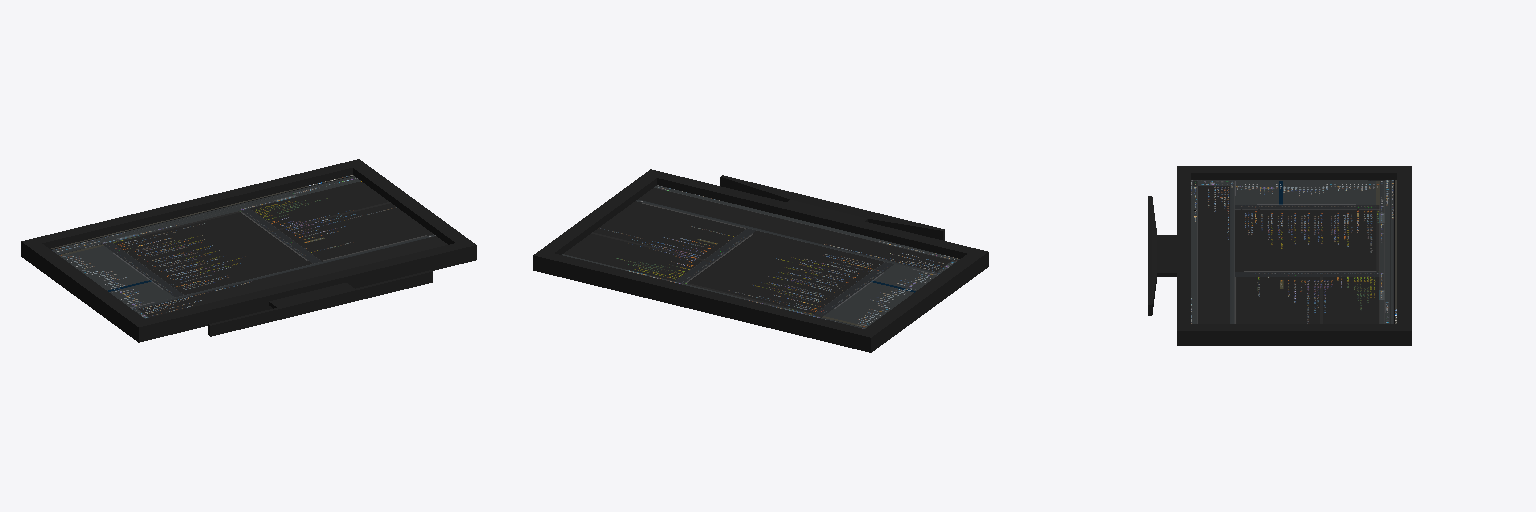
3 views of the same model, side by side, from view 1: azimuth 30°, elevation 25°; view 2: azimuth 150°, elevation 25°; view 3: azimuth 270°, elevation 25° (orthographic).
Parts seen in each view (by area): view 1: Cube; view 2: Cube; view 3: Cube.
Boxes of the visible parts, <box> form: Cube: <box>21,159,476,342</box>; Cube: <box>533,169,988,352</box>; Cube: <box>1148,166,1411,345</box>.
Size of the model in its own units: 9.82 by 0.4246 by 6.63.
Materials: 2 (2 with a texture image).